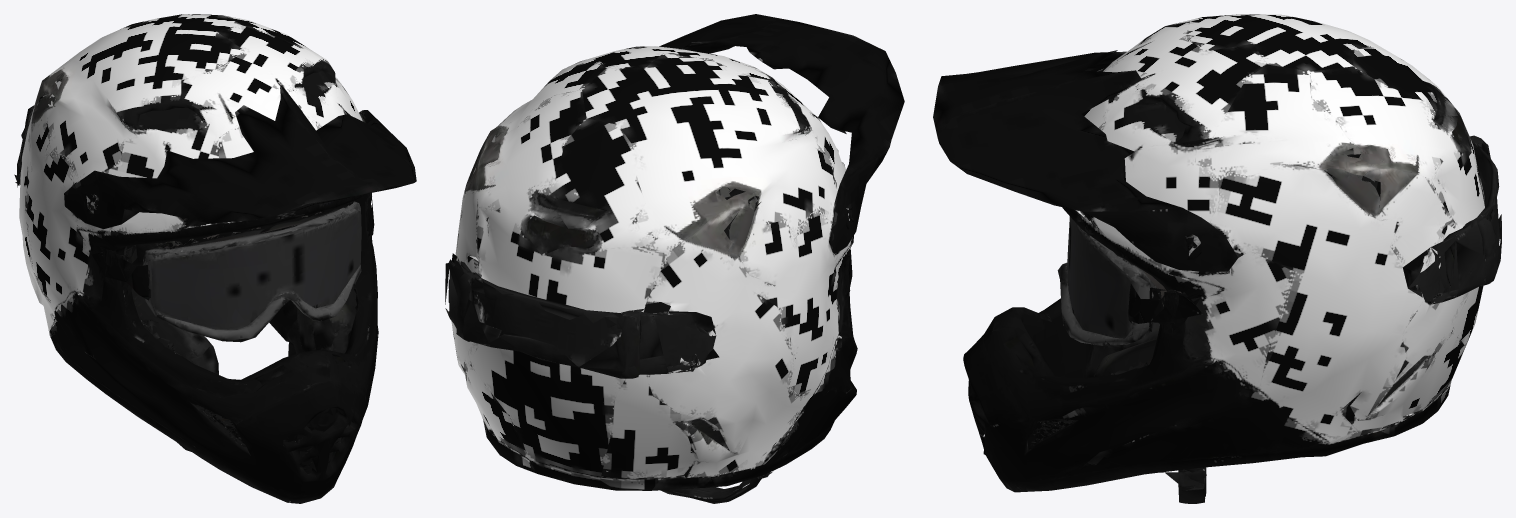
The model's file is helmet.glb.
The picture shows the model from 3 angles, left to right: view 1: azimuth 30°, elevation 25°; view 2: azimuth 150°, elevation 25°; view 3: azimuth 270°, elevation 25°; orthographic projection. The views are drawn at different scales.
Visible parts, largest first — view 1: world; view 2: world; view 3: world.
Boxes of the visible parts, x1=… form: world: x1=14, y1=14, x2=416, y2=503; world: x1=445, y1=14, x2=904, y2=503; world: x1=933, y1=14, x2=1501, y2=503.
Bounding box in the file's own units: 0.6959 × 0.8763 × 0.9959.
1 material, 1 textured.
